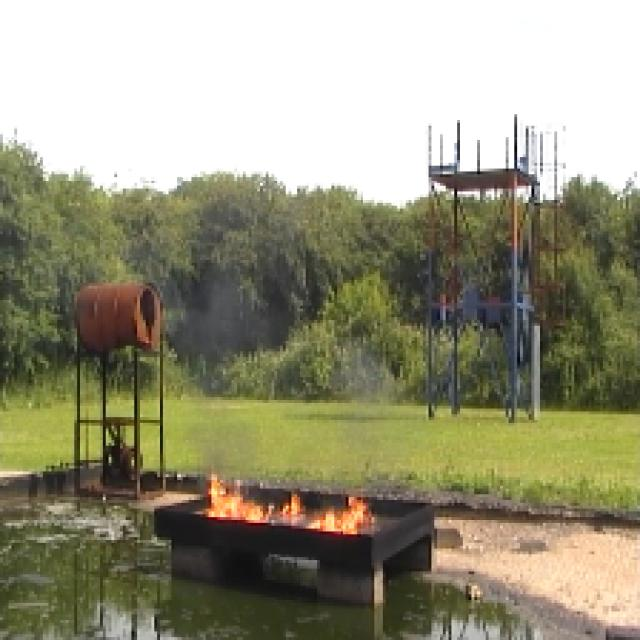fire: (201, 474, 386, 536)
